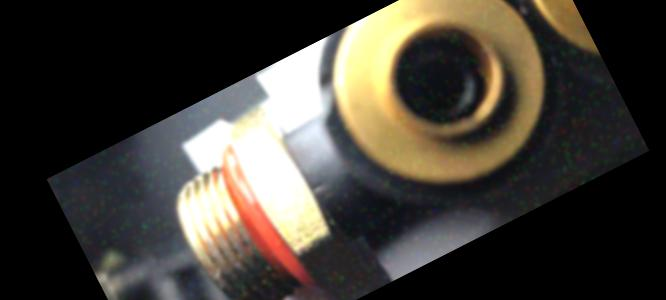bump: (287, 62, 355, 134)
white mark: (309, 180, 325, 196)
